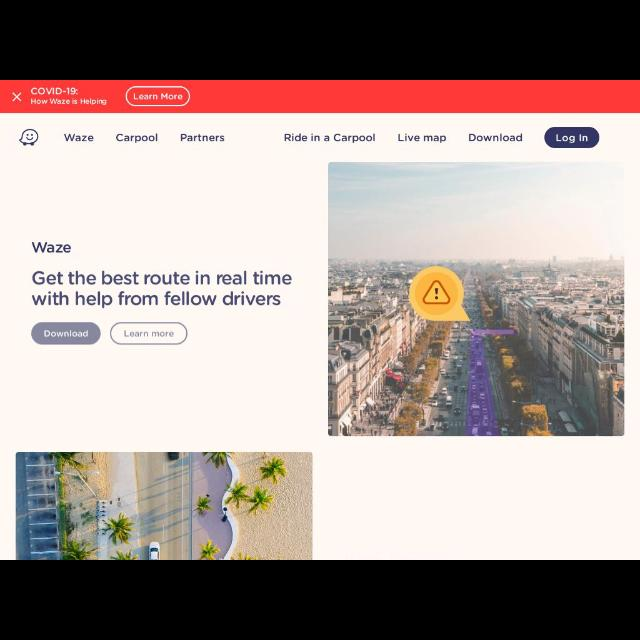icon: (12, 89, 22, 105)
iframe: (1, 80, 639, 114)
image: (329, 164, 625, 436), (16, 450, 314, 560), (18, 127, 40, 147)
text: (32, 270, 292, 308), (282, 133, 376, 143), (122, 328, 174, 340), (396, 132, 446, 144), (470, 132, 524, 142), (32, 98, 108, 105), (116, 132, 160, 144), (30, 240, 70, 253), (132, 92, 184, 101), (30, 87, 80, 95), (44, 329, 88, 338), (556, 132, 588, 144), (180, 133, 226, 141), (65, 132, 95, 142)
textbutton: (110, 323, 188, 347), (30, 322, 100, 344), (126, 86, 190, 108), (544, 128, 598, 148)
